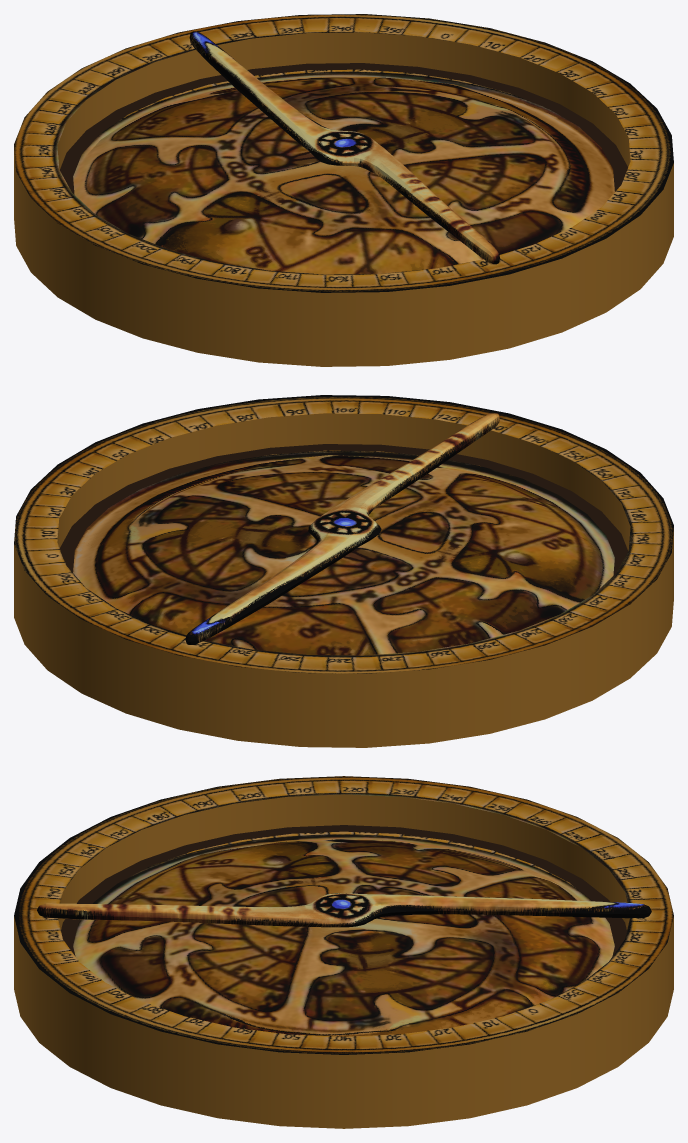
The model's file is astrolabus_full.glb.
The picture shows the model from 3 angles, top to bottom: view 1: azimuth 30°, elevation 25°; view 2: azimuth 150°, elevation 25°; view 3: azimuth 270°, elevation 25°; orthographic projection.
Parts seen in each view (by area): view 1: RoundPart, MainFrame, OuterRim, PointerTex, InnerRim; view 2: RoundPart, MainFrame, OuterRim, PointerTex, InnerRim; view 3: RoundPart, MainFrame, OuterRim, PointerTex, InnerRim.
Boxes of the visible parts, left/top/right/bottom form: RoundPart: left=73, top=69, right=614, bottom=274; MainFrame: left=14, top=32, right=673, bottom=366; OuterRim: left=14, top=14, right=673, bottom=292; PointerTex: left=189, top=31, right=499, bottom=264; InnerRim: left=60, top=63, right=627, bottom=194; RoundPart: left=73, top=450, right=614, bottom=655; MainFrame: left=14, top=413, right=673, bottom=747; OuterRim: left=14, top=395, right=673, bottom=673; PointerTex: left=185, top=413, right=499, bottom=644; InnerRim: left=60, top=444, right=627, bottom=575; RoundPart: left=73, top=831, right=614, bottom=1036; MainFrame: left=14, top=794, right=673, bottom=1128; OuterRim: left=14, top=776, right=673, bottom=1054; PointerTex: left=37, top=893, right=651, bottom=927; InnerRim: left=61, top=825, right=626, bottom=956.
Size of the model in its own units: 0.2624 by 0.0374 by 0.2624.
5 materials, 3 textured.
